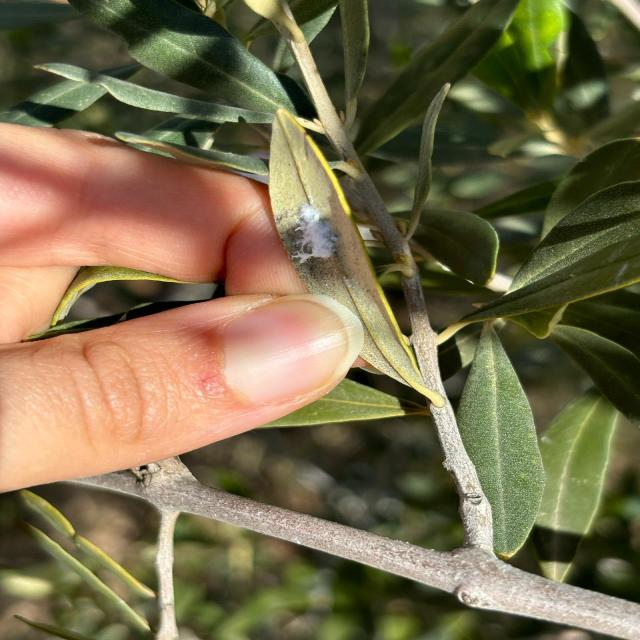Psyllid: (269, 109, 443, 404)
